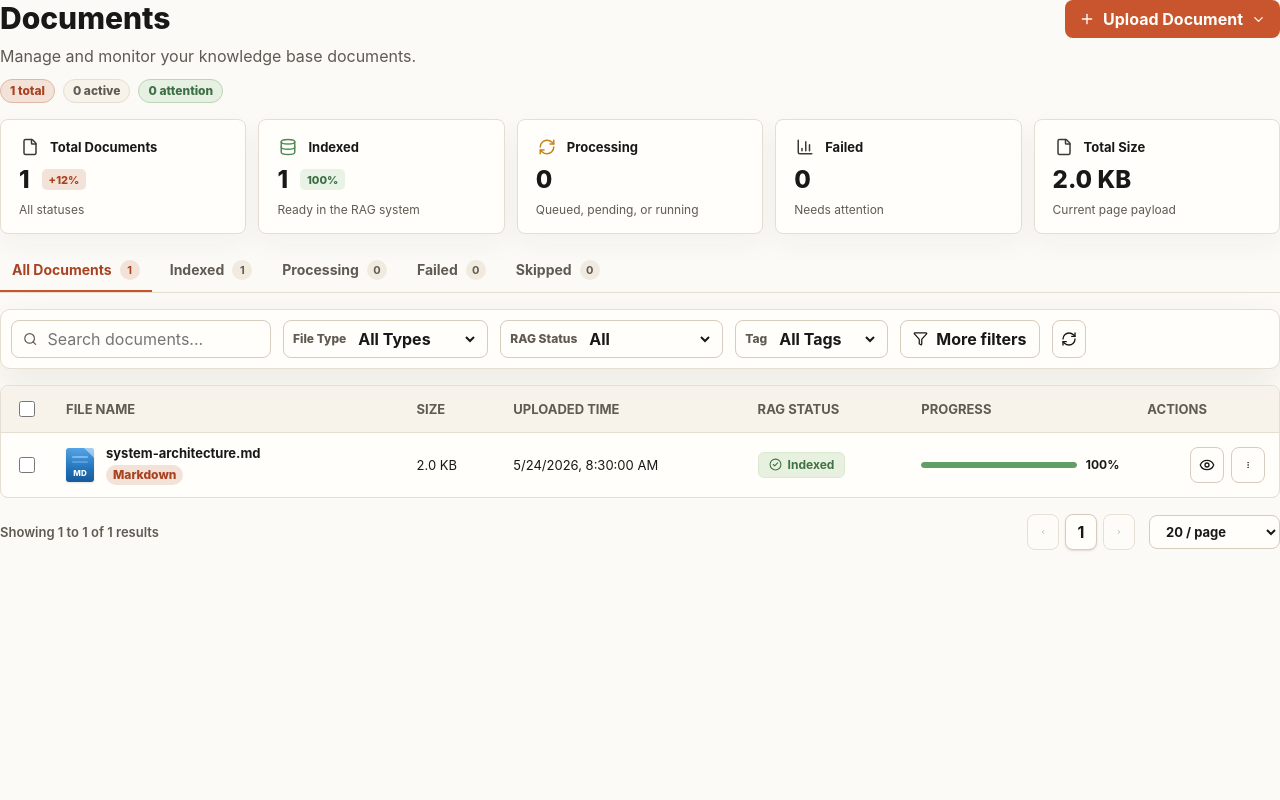
Test: DocumentsPage › opens document previews in a same-page drawer without leaving the list route
Click the button named "View system-architecture.md".
click(1207, 465)  # box [1190, 447, 1224, 483]
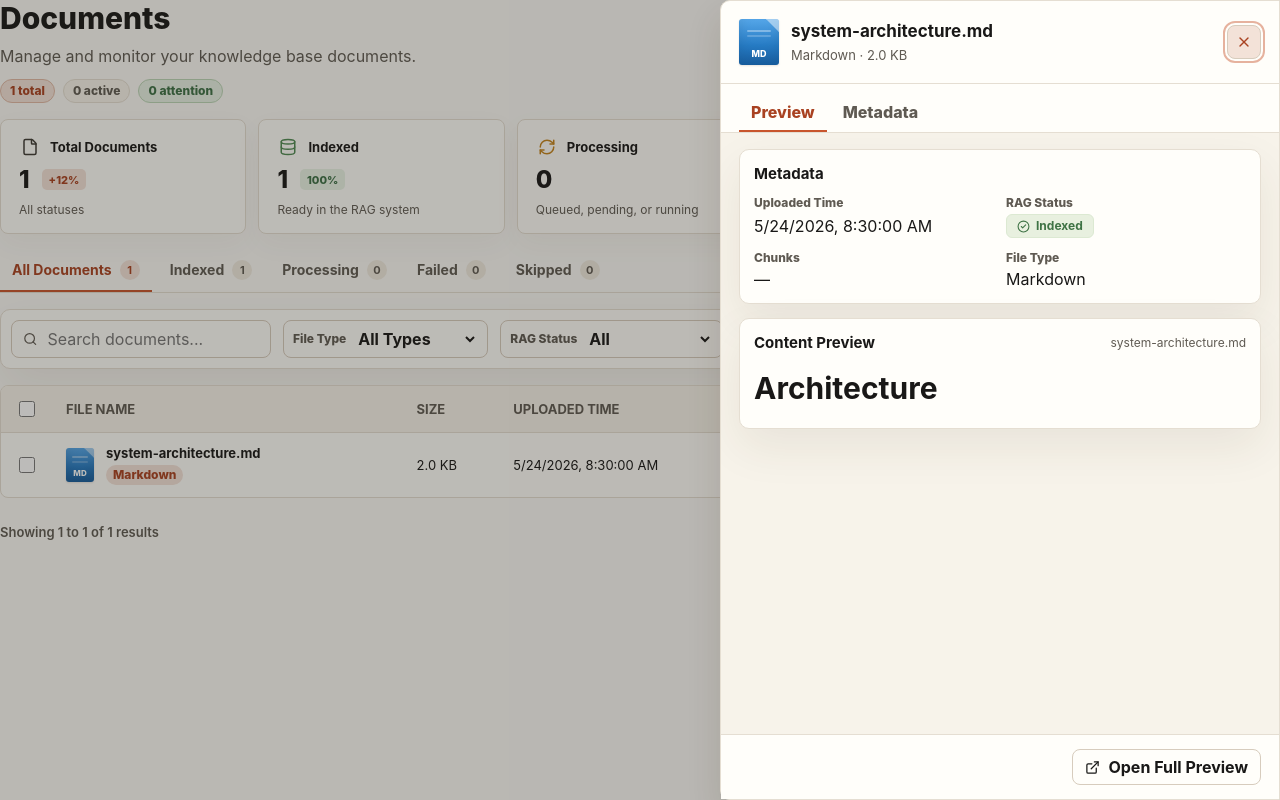
Expected: the button named "Close preview" is shown, [1227, 25, 1261, 59]
Expected: the element with class "lrn-scrim" is shown
